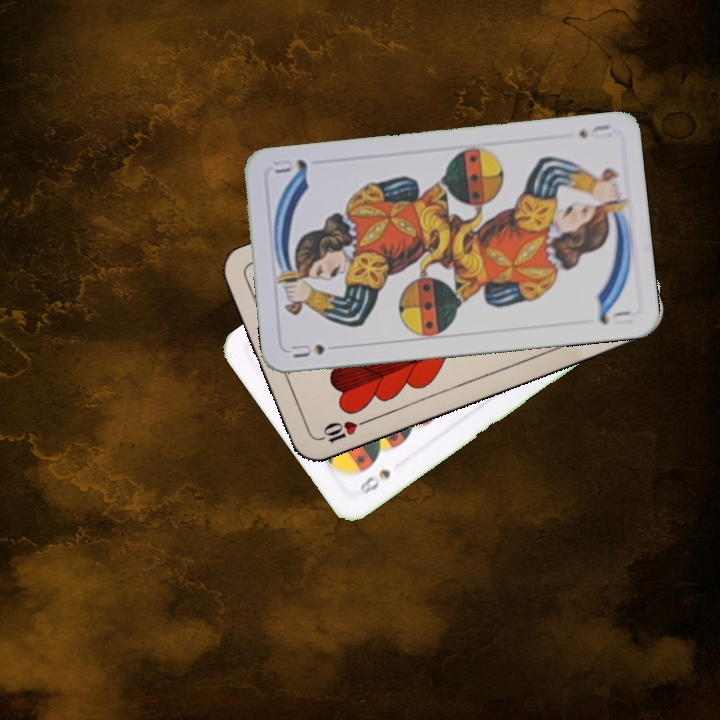H10: (313, 416, 370, 446)
S8: (356, 465, 393, 497)
SU: (574, 120, 615, 142), (287, 340, 327, 361)
